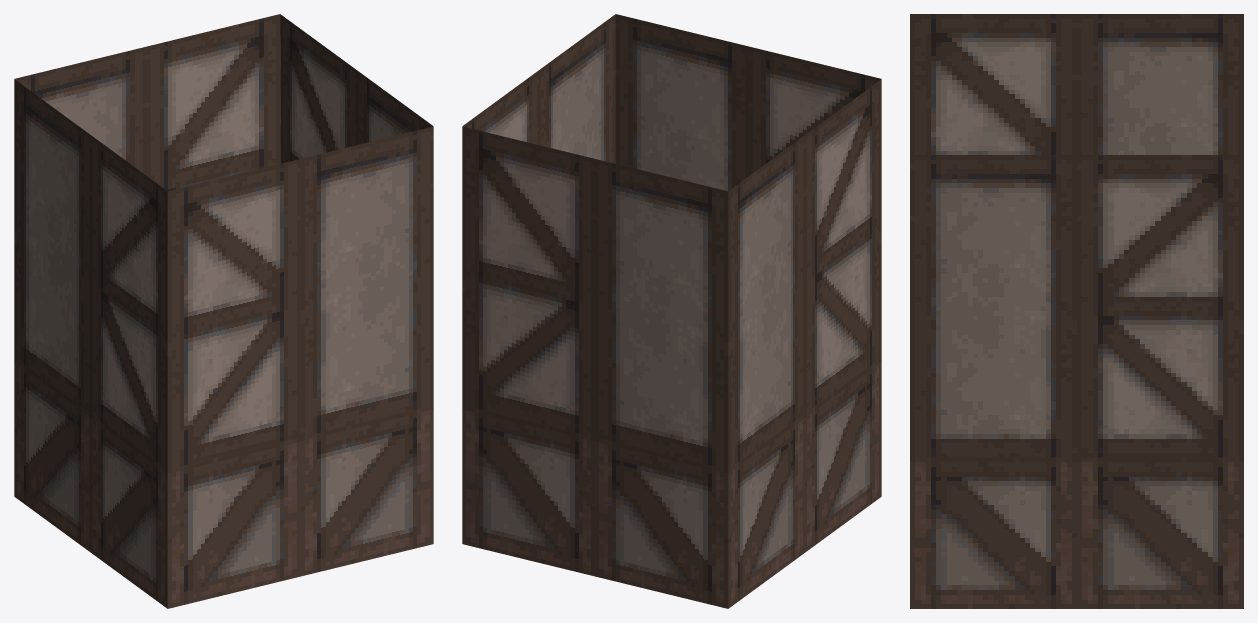
The model's file is plaster_wall_half_alt.glb.
3 renders of one model, left to right at view 1: azimuth 30°, elevation 25°; view 2: azimuth 150°, elevation 25°; view 3: azimuth 270°, elevation 25°, orthographic. The views are drawn at different scales.
Parts seen in each view (by area): view 1: plaster_wall_half_alt; view 2: plaster_wall_half_alt; view 3: plaster_wall_half_alt.
Boxes of the visible parts, x1,y1,x2,y2 form: plaster_wall_half_alt: (14, 14, 433, 608); plaster_wall_half_alt: (462, 14, 881, 608); plaster_wall_half_alt: (910, 14, 1243, 608).
Size of the model in its own units: 2.5 by 3.75 by 2.5.
1 material, 1 textured.
